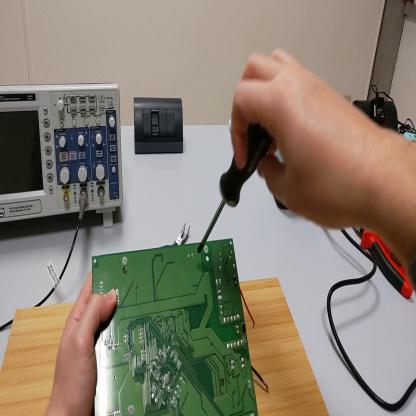hand: (229, 48, 365, 226), (51, 268, 117, 415)
low voltage board: (92, 239, 269, 416)
oscilloscope: (1, 87, 123, 228)
pliers: (356, 224, 413, 300)
screwdriver-: (199, 130, 270, 254)
socket: (355, 99, 398, 134)
welder base: (404, 129, 416, 143)
welder station: (275, 150, 290, 207)
working area: (3, 282, 328, 415)
